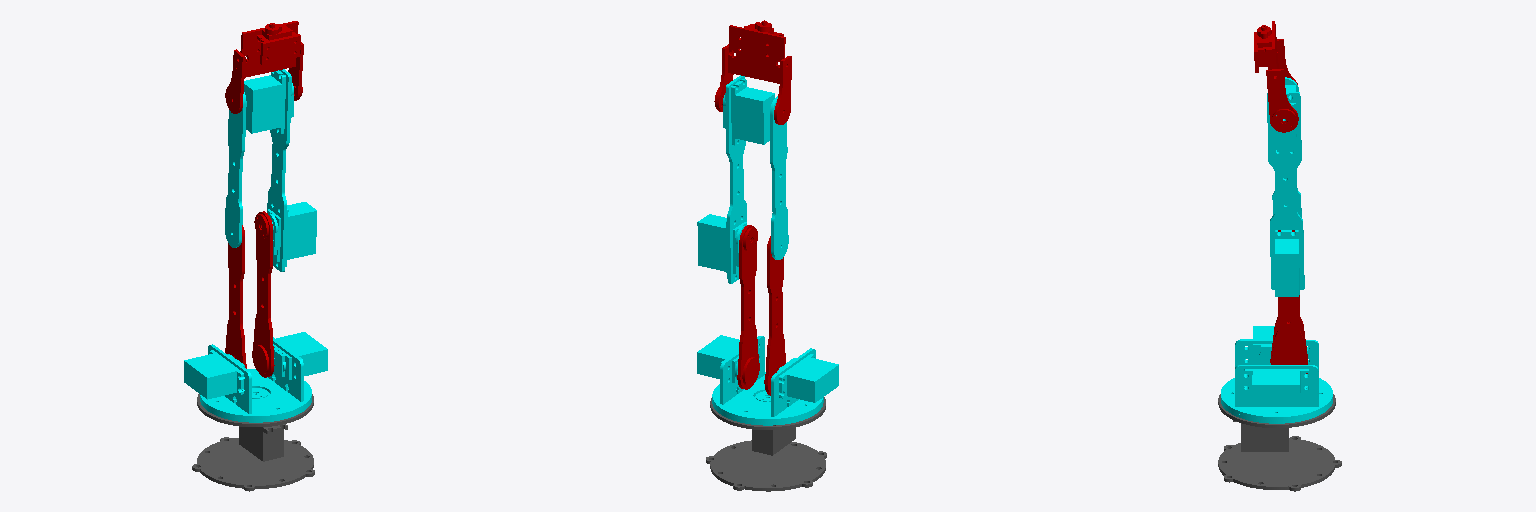
robot.urdf — My_Robot:
<?xml version="1.0"?>
<robot name="My_Robot">


    <material name="red">
        <color rgba="0.8 0.0 0.0 1.0"/>
    </material>

    <material name="cyan">
        <color rgba="0 1.0 1.0 1.0"/>
    </material>

    <material name="grey">
        <color rgba="0.4 0.4 0.4 1.0"/>
    </material>


	<link name="world" />

        <link name="base_link">
        <visual>
            <origin xyz="1.3 -1.1 2.85" rpy="0 0.0 0.0"/>
            <geometry>
                <mesh filename="package://lesson_urdf/meshes/visual/STL_Link_Base.stl" scale="0.1 0.1 0.1"/>
            </geometry>
            <material name="grey"/>
        </visual>
        </link>

        <joint name="Join" type="fixed">
            <parent link="world"/>
            <child link="base_link"/>
        </joint>

	<link name="link_1">
            <visual>
                <origin xyz="2.2 -0.1 2.2" rpy="0.0 0.0 6"/>
                <geometry>
                    <mesh filename="package://lesson_urdf/meshes/visual/STL_Link_1.stl" scale="0.1 0.1 0.1"/>
                </geometry>
                <material name="cyan"/>
            </visual>
        </link>

        <joint name="joint_1" type="revolute">
            <origin xyz="0.0 0.0 6" rpy="0.0 0.0 0.0"/>
            <parent link="base_link"/>
            <child link="link_1"/>
            <axis xyz="0.0 0.0 1.0"/>
            <limit lower="-3.14" upper="3.14" effort="5.0" velocity="5.0"/>
        </joint>
        
        <link name="link_2">
            <visual>
                <origin xyz="1.2 3.3 4.1" rpy="0.0 0.0 6.0"/>
                <geometry>
                    <mesh filename="package://lesson_urdf/meshes/visual/STL_Link_2.stl" scale="0.1 0.1 0.1"/>
                </geometry>
                <material name="red"/>
            </visual>
        </link>

        <joint name="joint_2" type="revolute">
            <origin xyz="0.0 1.0 3.1" rpy="0.8 0.0 0.0"/>
            <parent link="link_1"/>
            <child link="link_2"/>
            <axis xyz="1.0 0.0 0.0"/>
            <limit lower="-1.9" upper="1.7" effort="5.0" velocity="5.0"/>
        </joint>
 
         <link name="link_3">
            <visual>
                <origin xyz="3.8 5.5 1.9" rpy="0.0 0.0 -0.3"/>
                <geometry>
                    <mesh filename="package://lesson_urdf/meshes/visual/STL_Link_3.stl" scale="0.1 0.1 0.1"/>
                </geometry>
                <material name="cyan"/>
            </visual>
        </link>

        <joint name="joint_3" type="revolute">
            <origin xyz="0.0 8.8 8.5" rpy="0.45 0.0 0.0"/>
            <parent link="link_2"/>
            <child link="link_3"/>
            <axis xyz="1.0 0.0 0.0"/>
            <limit lower="-2.6" upper="2.6" effort="5.0" velocity="5.0"/>
        </joint>
        
        <link name="link_4">
            <visual>
                <origin xyz="1.6 3.7 0.3" rpy="0.0 0.0 -0.3"/>
                <geometry>
                    <mesh filename="package://lesson_urdf/meshes/visual/STL_Link_4.stl" scale="0.1 0.1 0.1"/>
                </geometry>
                <material name="red"/>
            </visual>
        </link>

        <joint name="joint_4" type="revolute">
            <origin xyz="0.0 11.6 4.3" rpy="0.4 0.0 0.0"/>
            <parent link="link_3"/>
            <child link="link_4"/>
            <axis xyz="1.0 0.0 0.0"/>
            <limit lower="-2.5" upper="2.2" effort="5.0" velocity="5.0"/>
        </joint>
 
         <link name="Gripper">
            <visual>
                <origin xyz="0.6 5.8 0.6" rpy="0.0 0.0 -0.3"/>
                <geometry>
                    <mesh filename="package://lesson_urdf/meshes/visual/STL_Link_5.stl" scale="0.1 0.1 0.1"/>
                </geometry>
                <material name="grey"/>
            </visual>
        </link>

        <joint name="joint_Gripper" type="revolute">
            <origin xyz="1.0 7.1 1.1" rpy="0.0 0.0 0.0"/>
            <parent link="link_4"/>
            <child link="Gripper"/>
            <axis xyz="0.0 1.0 0.0"/>
            <limit lower="-3.14" upper="3.14" effort="5.0" velocity="5.0"/>
        </joint>
        
                
        <link name="end" />

  	<joint name="gripper_end" type="fixed">
    	    <parent link="Gripper" />
    	    <child link="end" />
    	    <origin xyz="0.3 10.0 0.0" rpy="0 0 0" />
    	</joint>

</robot>

--- Facts derived from the render (not from the file) ---
3 views of the same robot in one strip: view 1: azimuth 30°, elevation 25°; view 2: azimuth 150°, elevation 25°; view 3: azimuth 270°, elevation 25° (orthographic).
Robot: My_Robot — 8 links, 7 joints (5 revolute, 2 fixed); root link world; default pose: every joint at zero.
Visible links, largest first — view 1: link_3, link_1, base_link, link_2, link_4; view 2: link_3, link_1, base_link, link_2, link_4; view 3: link_1, base_link, link_3, link_4, link_2.
Link boxes in pixels (box(x1,y1,x2,y2)): link_3: box(225, 69, 316, 271); link_1: box(184, 332, 327, 422); base_link: box(192, 394, 314, 491); link_2: box(225, 211, 274, 377); link_4: box(225, 21, 303, 113); link_3: box(697, 75, 788, 283); link_1: box(697, 335, 838, 425); base_link: box(706, 397, 826, 491); link_2: box(737, 225, 785, 395); link_4: box(714, 20, 791, 124); link_1: box(1221, 326, 1332, 423); base_link: box(1218, 394, 1341, 491); link_3: box(1267, 77, 1304, 296); link_4: box(1254, 21, 1298, 132); link_2: box(1270, 230, 1307, 373).
Size in the robot's own frame: 11.67 by 10.3 by 40.92 metres.
5 mesh visuals loaded from 6 distinct referenced files (5 binary STL); not drawn: 1 (reference not matched to a file when rendering).